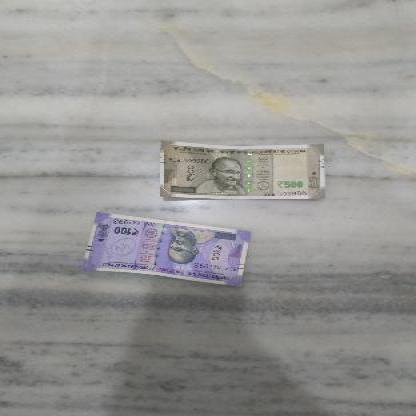New100Front: (91, 212, 249, 285)
New500Front: (156, 140, 325, 198)
